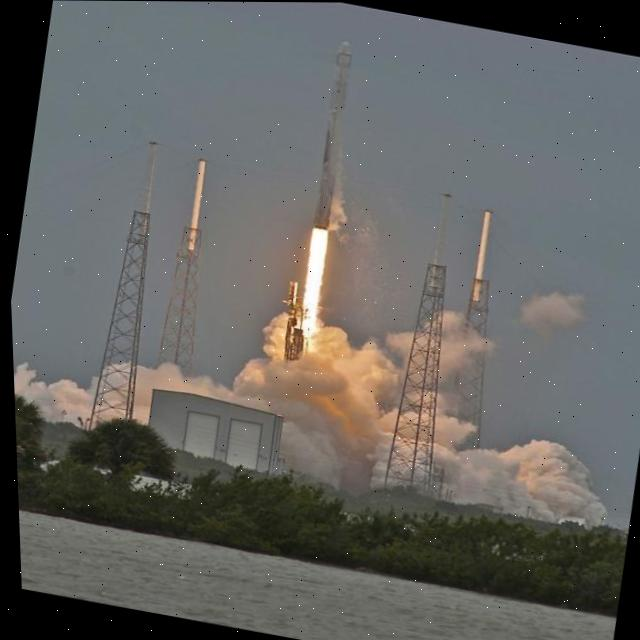missile: (301, 32, 363, 230)
